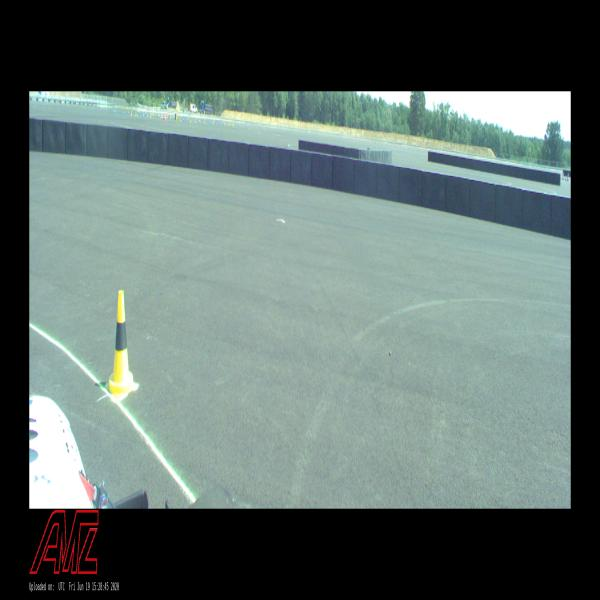yellow_cone: (105, 290, 136, 400)
